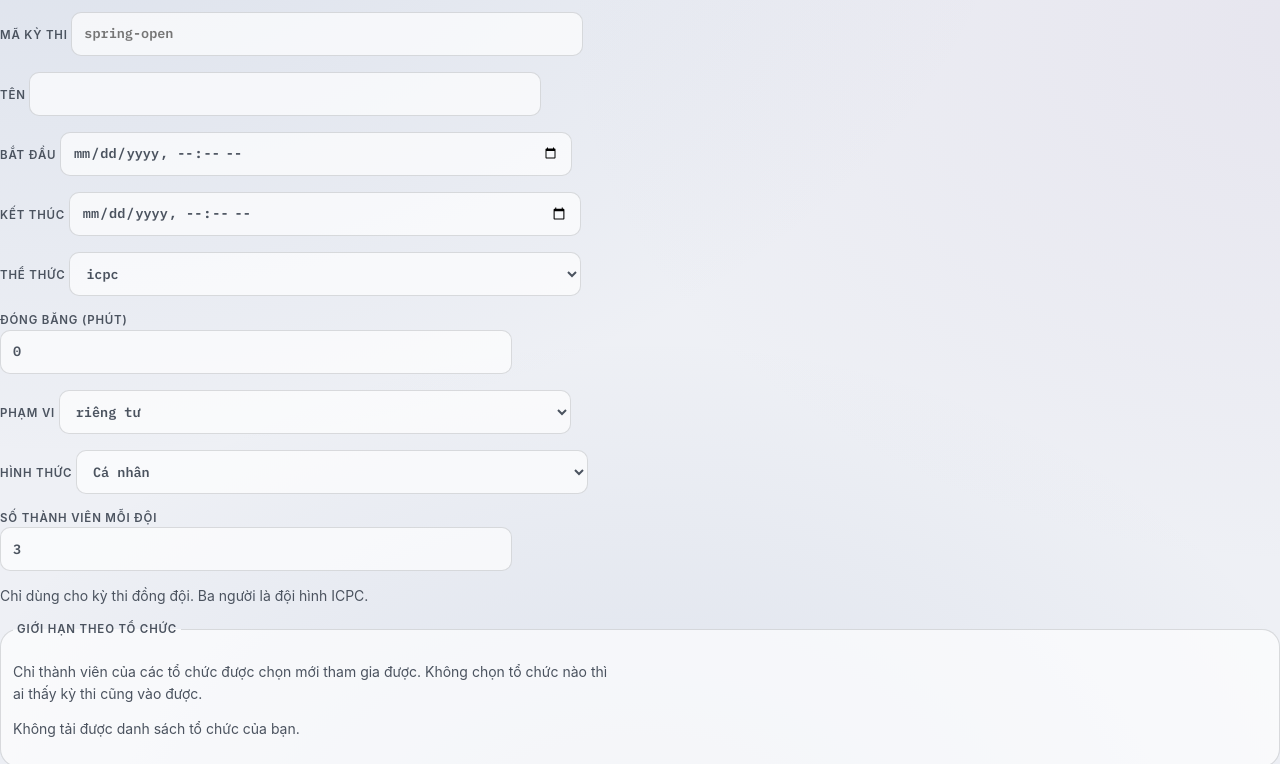
Test: ContestNewPage › surfaces the API detail on refusal
Type "spring" into the field labelled "Mã kỳ thi" at (327, 34), box [71,12,583,56]
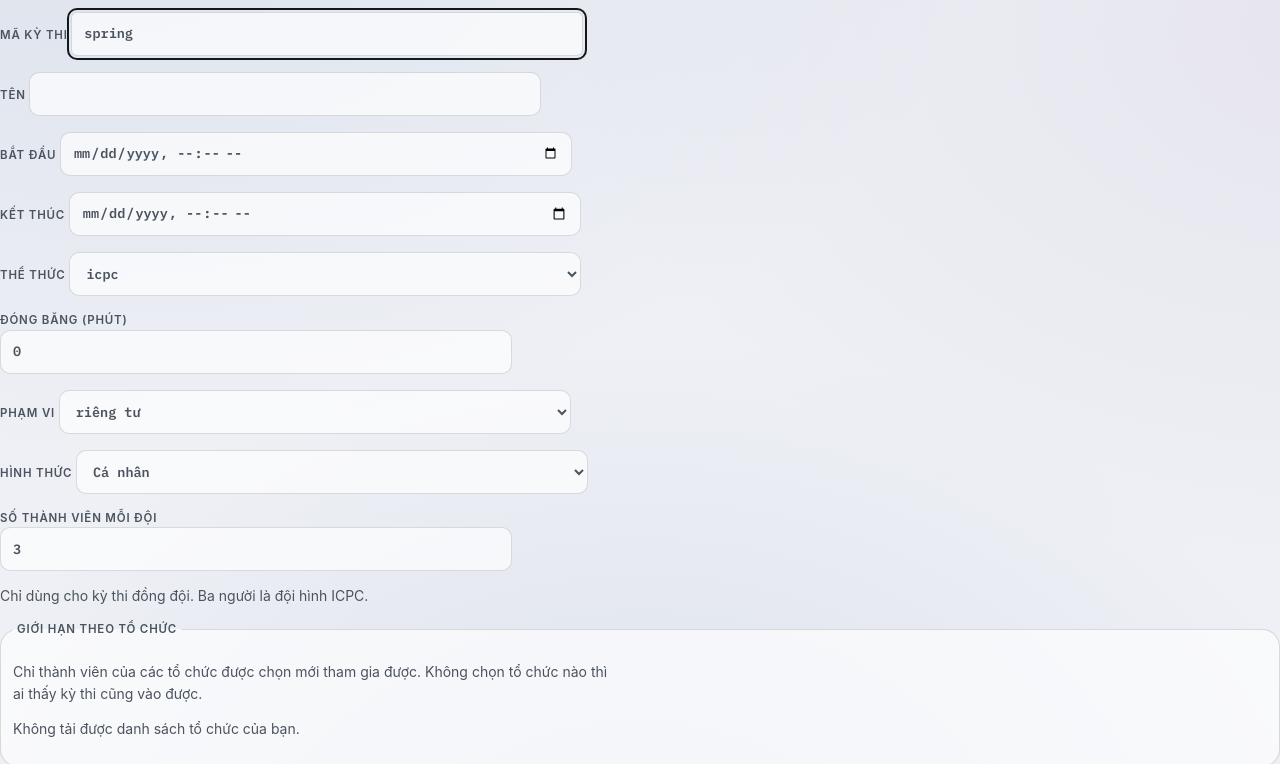
Type "Spring Open" into the field labelled "Tên" at (285, 94), box [29,72,541,116]
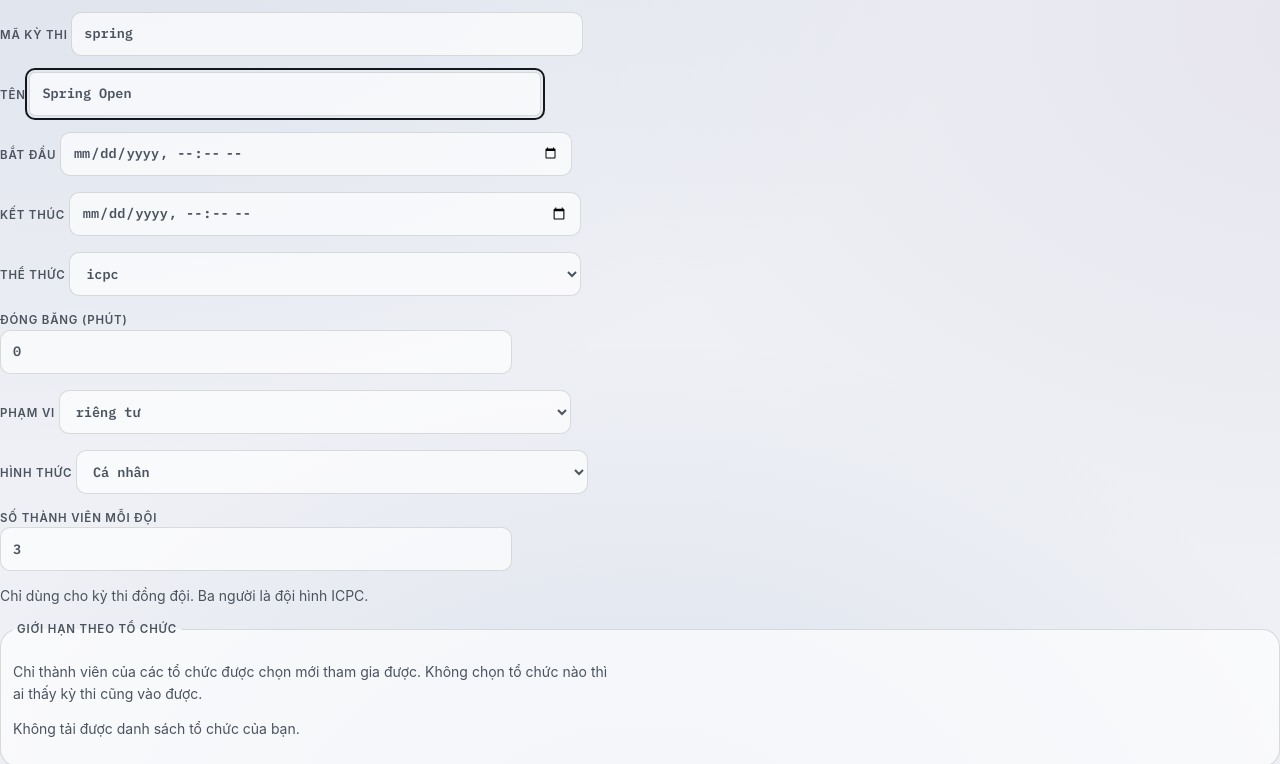
Type "2026-09-01T09:00" into the field labelled "Bắt đầu" at (316, 154), box [60,132,572,176]
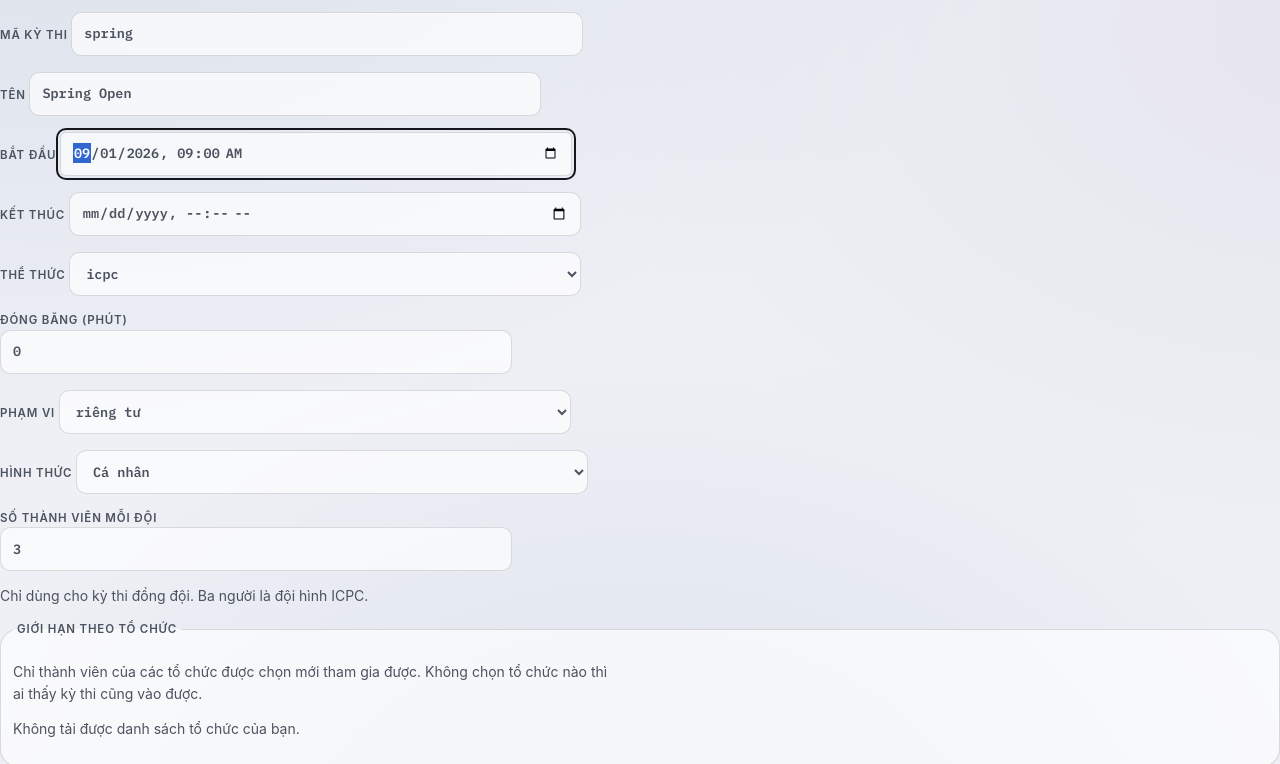
Type "2026-09-01T14:00" into the field labelled "Kết thúc" at (325, 214), box [69,192,581,236]
(page scrolled)
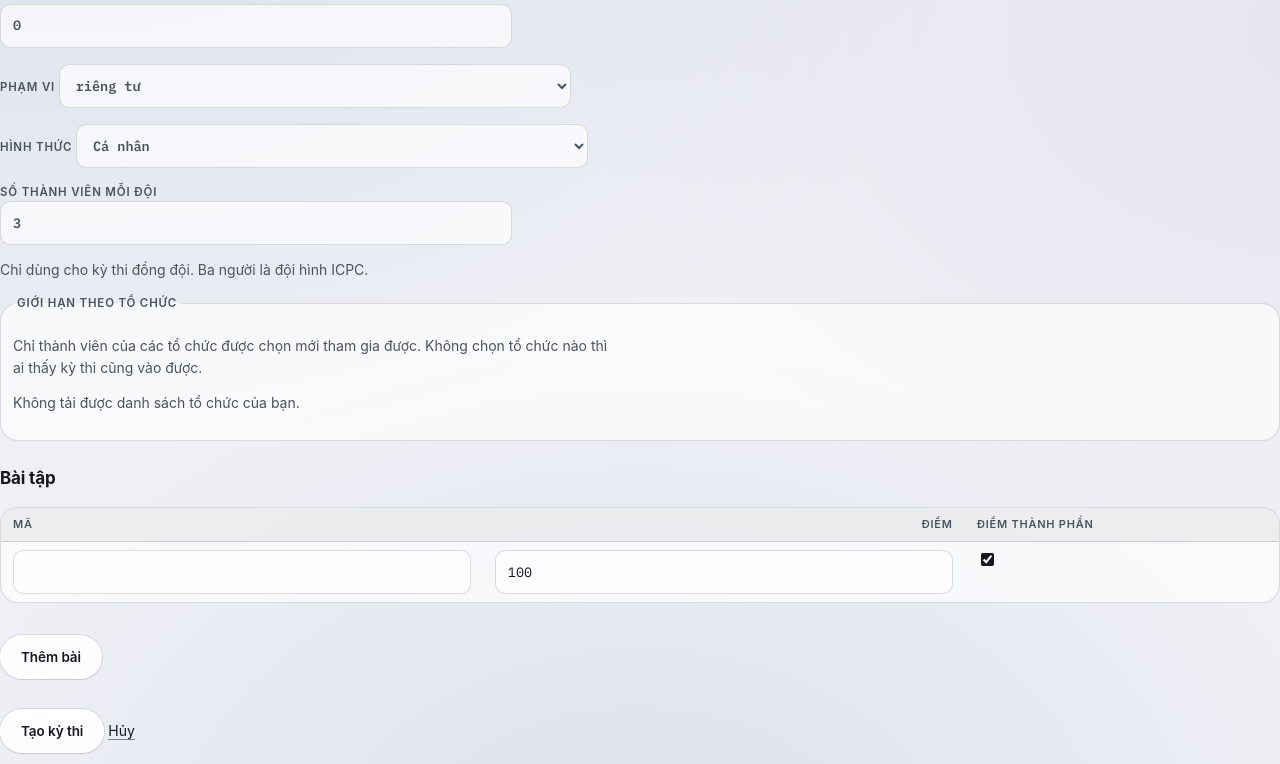
Click the button "Tạo kỳ thi" at (52, 731), box [0,709,104,753]
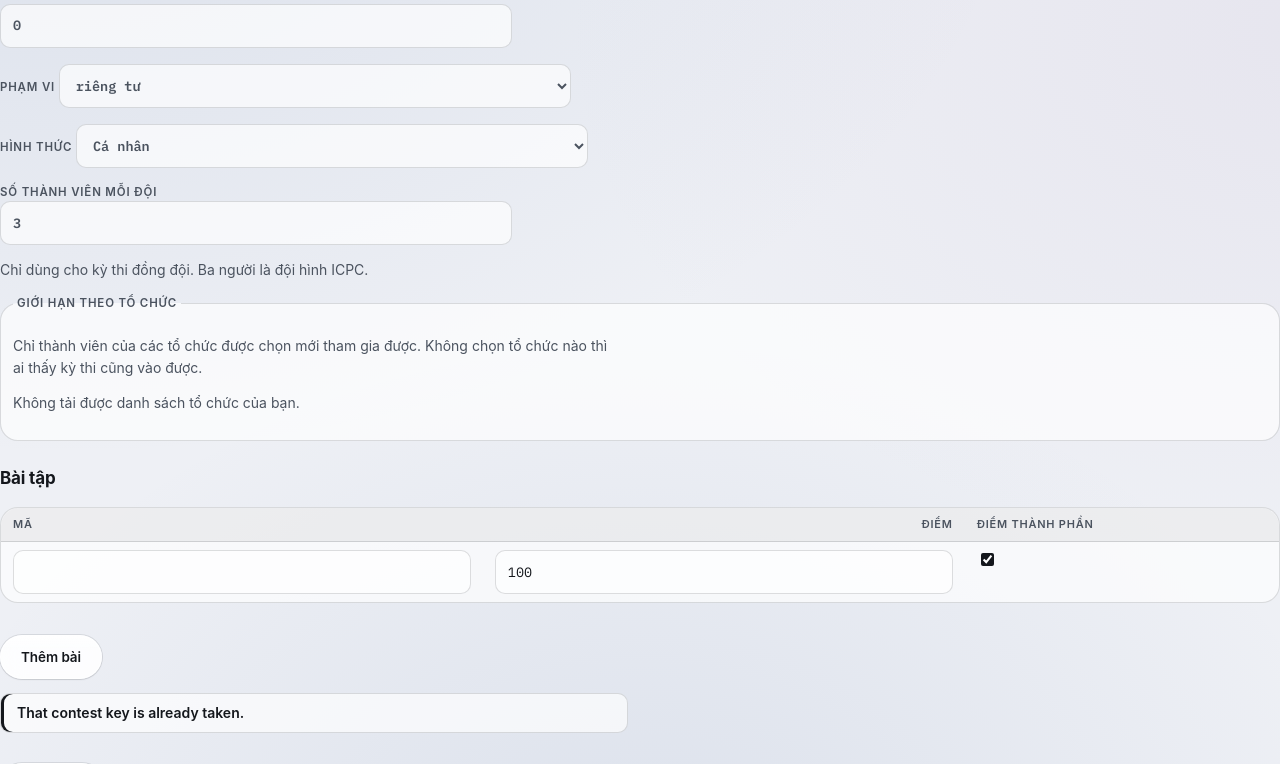
expect the message shows "already taken": met, box [17,704,244,721]
